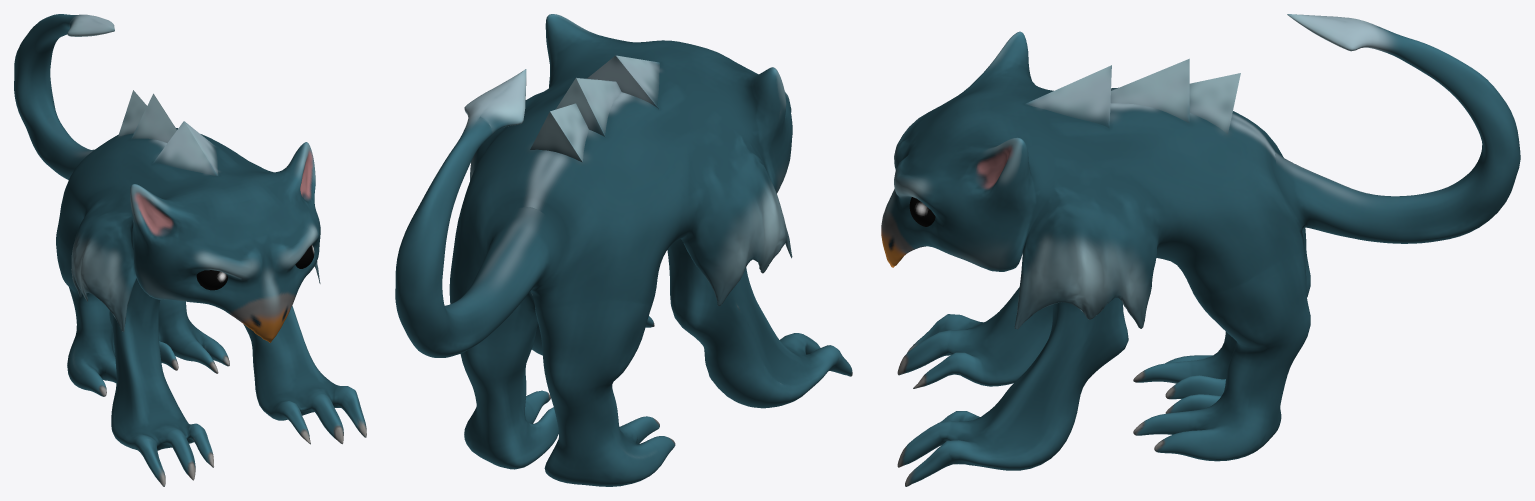
File: Gargoyle.fbx
The picture shows the model from 3 angles, left to right: view 1: azimuth 30°, elevation 25°; view 2: azimuth 150°, elevation 25°; view 3: azimuth 270°, elevation 25°; orthographic projection. The views are drawn at different scales.
Visible parts, largest first — view 1: pCone4; view 2: pCone4; view 3: pCone4.
Part boxes in pixels (box(x1,y1,x2,y2)): pCone4: box(14, 14, 366, 486); pCone4: box(395, 14, 852, 486); pCone4: box(881, 14, 1520, 486).
Size of the model in its own units: 35.45 by 47.74 by 67.45.
1 material, 1 textured.
